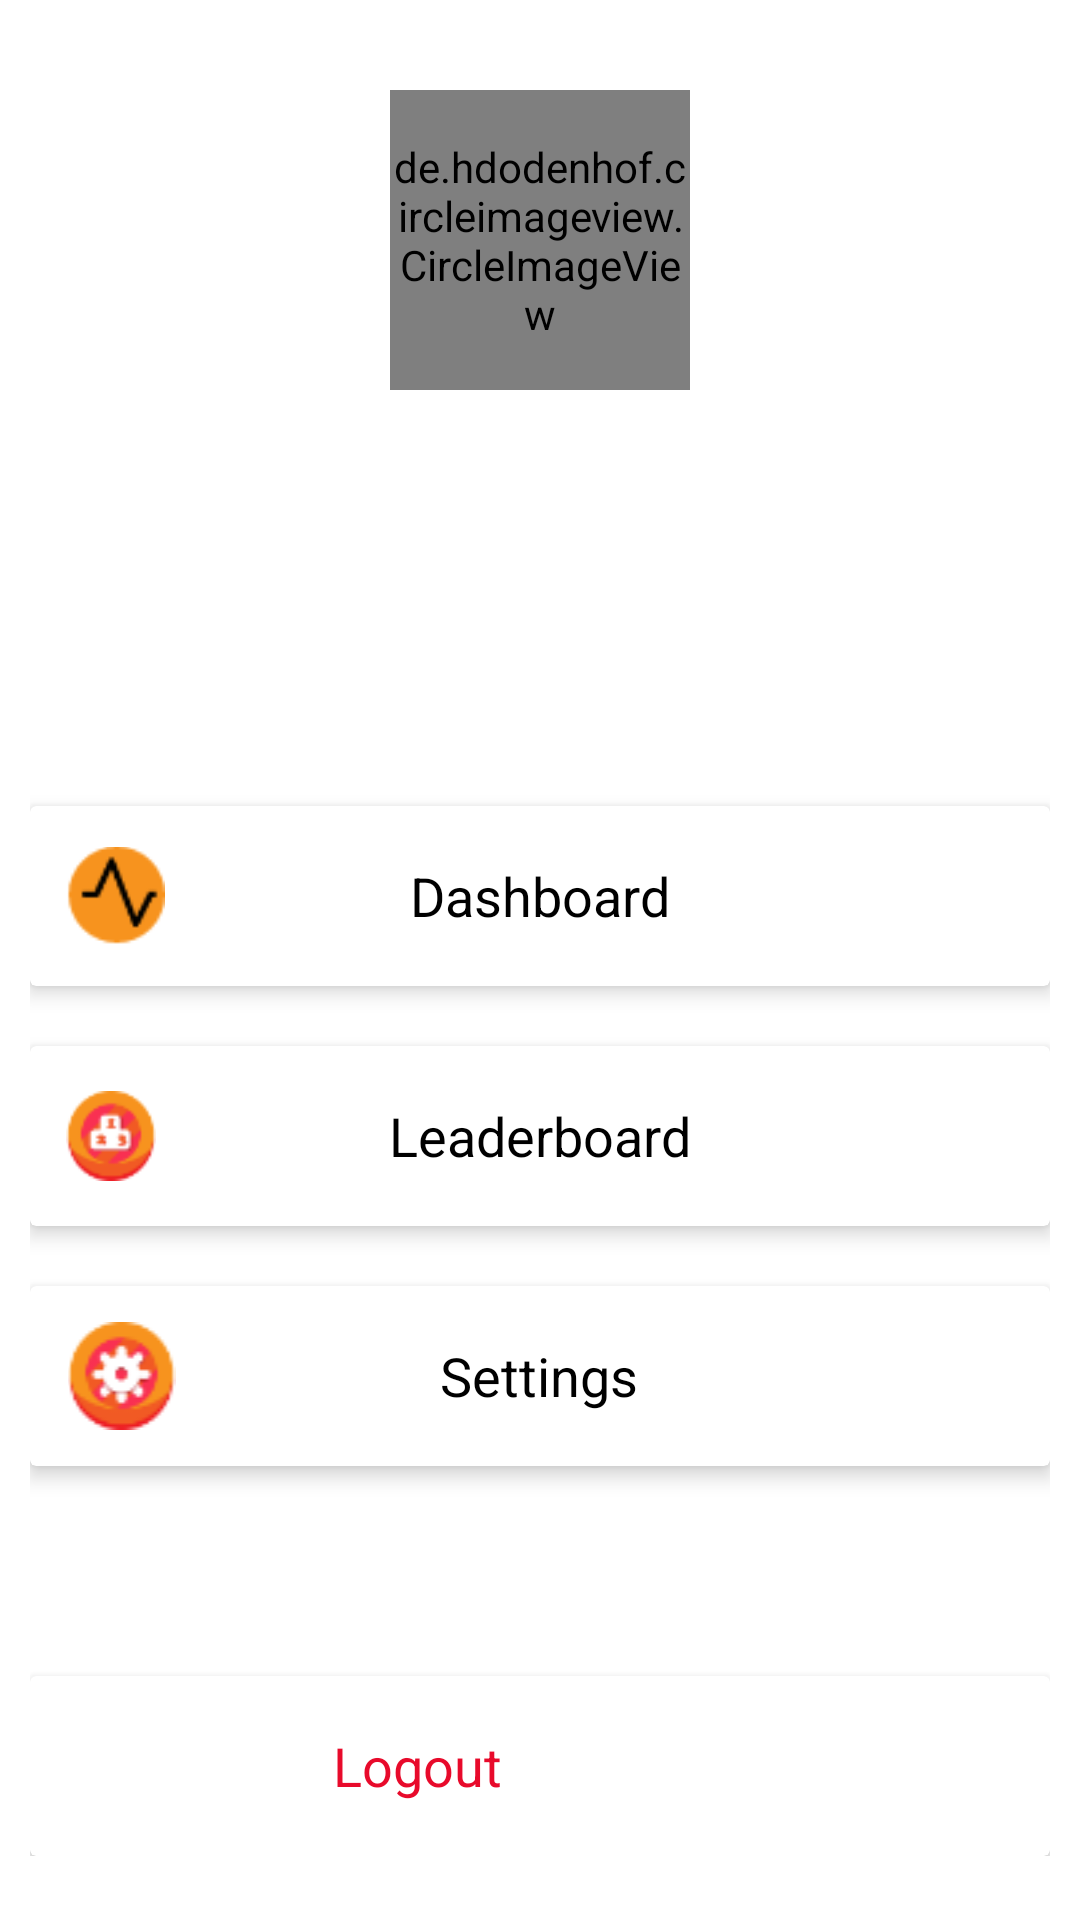

Locate icon controls on the screen. Image size 1080×1920, boxes as (x1, y1, x2, y2).
activityicon: (68, 847, 165, 944)
